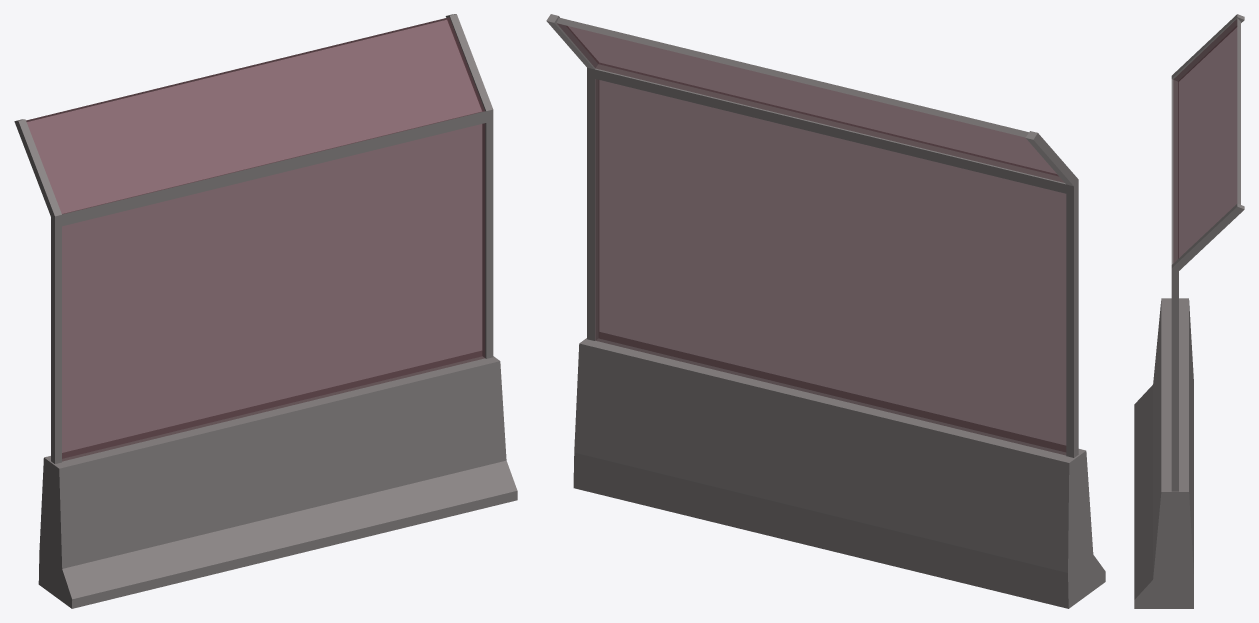
File: barrier-concrete-glass.fbx
The picture shows the model from 3 angles, left to right: view 1: azimuth 30°, elevation 25°; view 2: azimuth 150°, elevation 25°; view 3: azimuth 270°, elevation 25°; orthographic projection. The views are drawn at different scales.
Visible parts, largest first — view 1: barrier-concrete-glass; view 2: barrier-concrete-glass; view 3: barrier-concrete-glass.
Boxes of the visible parts, box(x1,y1,x2,y2) form: barrier-concrete-glass: box(14, 14, 517, 608); barrier-concrete-glass: box(546, 14, 1105, 608); barrier-concrete-glass: box(1134, 14, 1244, 608).
Size of the model in its own units: 5.03 by 4.8 by 1.2.
